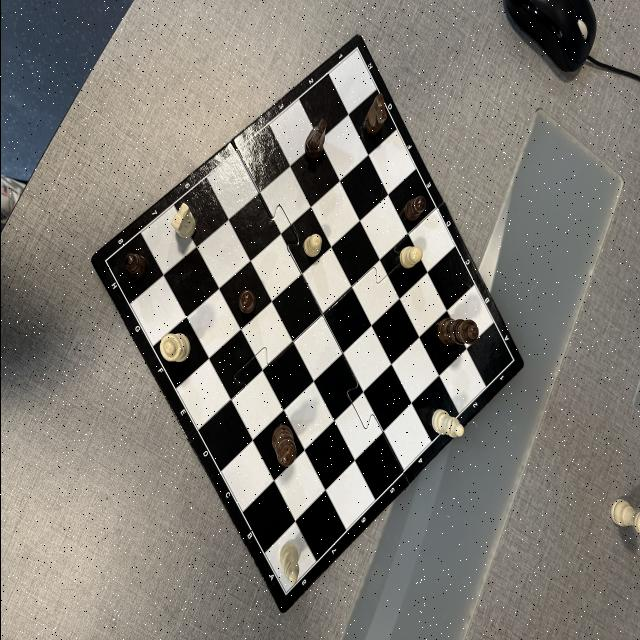Black-King: (270, 424, 296, 466)
Black-Knight: (362, 92, 387, 136), (303, 118, 327, 160)
Black-Pawn: (402, 196, 426, 222), (122, 252, 146, 278), (237, 289, 255, 315)
Black-Queen: (436, 316, 478, 346)
White-Bishop: (430, 409, 463, 438), (278, 543, 298, 585)
White-Knight: (170, 202, 196, 240)
White-Pawn: (398, 246, 422, 270), (302, 234, 322, 258)
White-Queen: (158, 333, 190, 363)
